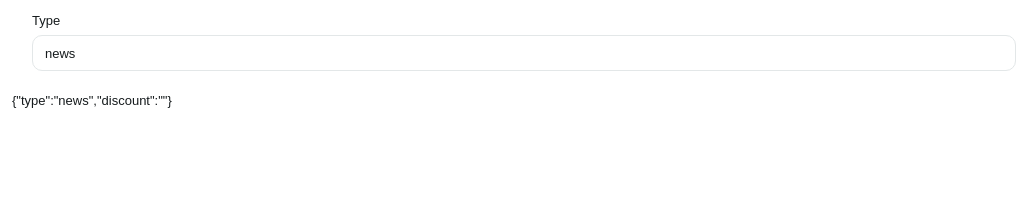
Test: conditional fields › shows a field while the condition holds
Later steps or results of the test are not shown.
Replace the text in the field with "sale". click: (524, 53)
box: 32,35 -> 1016,71
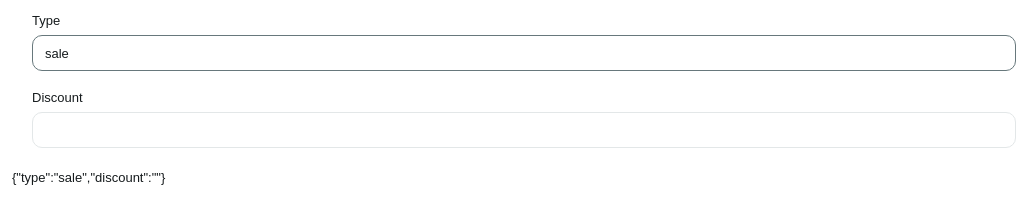
Expected: the text "discount" is shown, 32,91 -> 83,104
